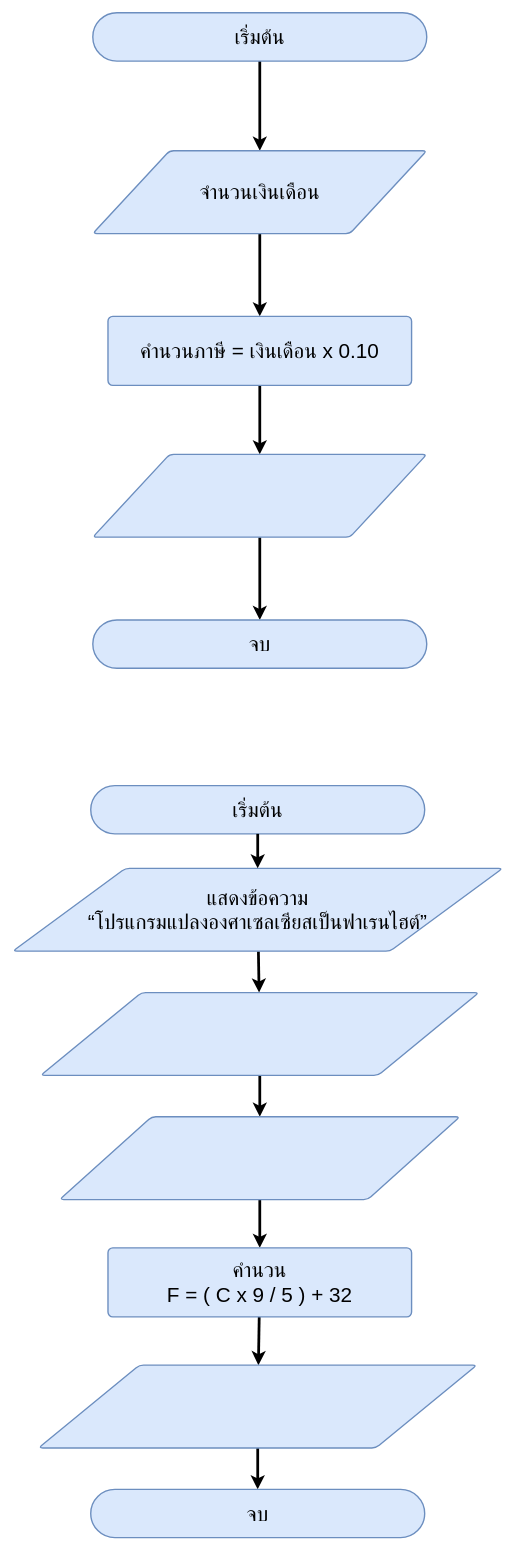
This 515x1550 diagram has some shape labels left out. Each missing label, with the centre of its shape:
"รับค่า C" belongs at [259,1158].
"แสดงข้อความ “กรุณาป้อนค่าองศาเซลเซียส ( ° C)”" belongs at [259,1034].
"แสดงผล “อุณหภูมิในหน่วยฟาเรนไฮต์คือ : “ F" belongs at [257,1406].
"แสดงผลเงินเดือน และภาษี" belongs at [259,495].
